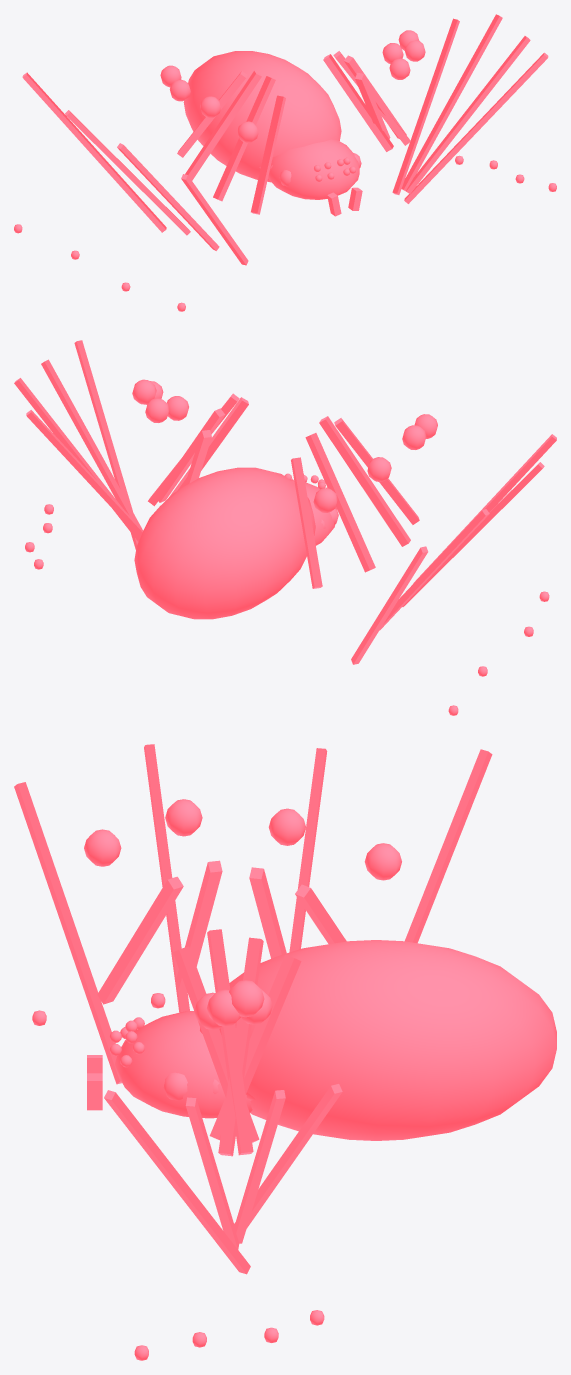
The model's file is spider_core.gltf.
3 views of the same model, one above another, from view 1: azimuth 30°, elevation 25°; view 2: azimuth 150°, elevation 25°; view 3: azimuth 270°, elevation 25° (orthographic). The views are drawn at different scales.
Parts seen in each view (by area): view 1: Spider_3D_Master; view 2: Spider_3D_Master; view 3: Spider_3D_Master.
Part boxes in pixels (x1,y1,x2,y2): Spider_3D_Master: (14,14,556,311); Spider_3D_Master: (14,340,556,715); Spider_3D_Master: (14,744,556,1360).
Bounding box in the file's own units: 8.56 × 3.1 × 5.21.
